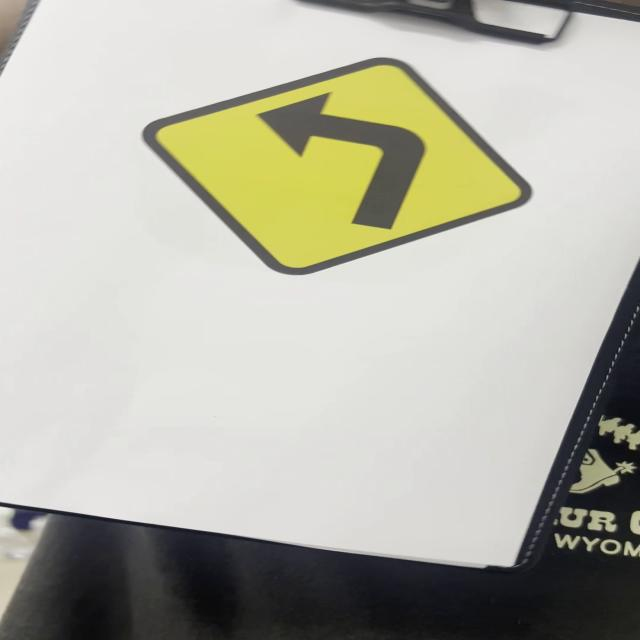left: (155, 62, 534, 272)
